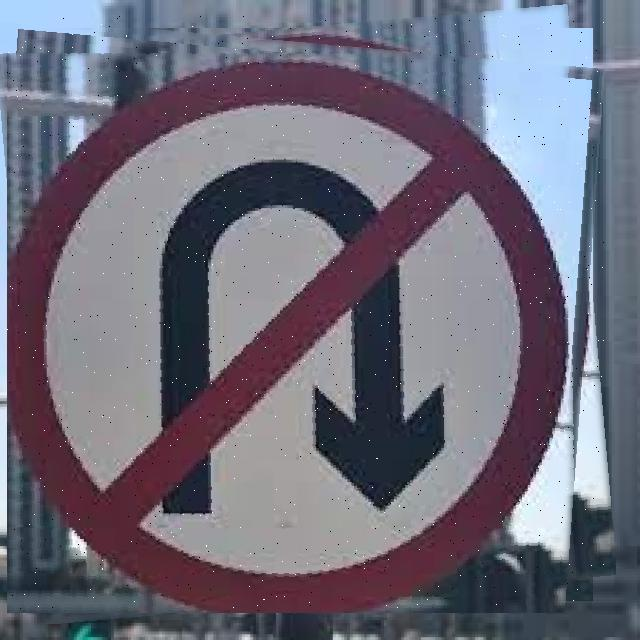no u turn: (7, 16, 605, 613)
